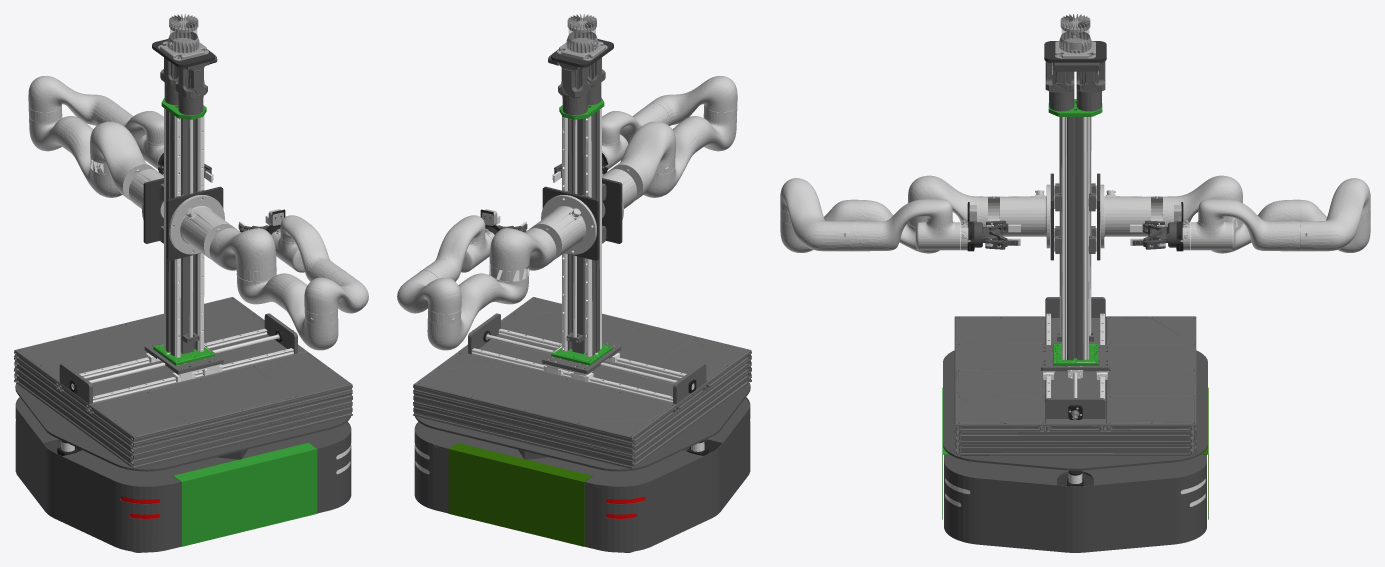
Rendered from mmp_ridgeback_dualxarm.glb.
3 renders of one model, left to right at view 1: azimuth 30°, elevation 25°; view 2: azimuth 150°, elevation 25°; view 3: azimuth 270°, elevation 25°, orthographic.
Parts seen in each view (by area): view 1: node3_primitive0, mmp_ridgeback_primitive0, empty_6.002, mmp_ridgeback_primitive5, empty_5, node26_primitive0, node3_primitive20, xarm850_bracket_primitive0, node18, node26_primitive2, node3_primitive1, Cube; view 2: node3_primitive0, mmp_ridgeback_primitive0, empty_6.002, mmp_ridgeback_primitive2, empty_5, node26_primitive0, xarm850_bracket_primitive0, node3_primitive20, node18, node26_primitive2, node3_primitive1, Cube; view 3: node3_primitive0, mmp_ridgeback_primitive0, empty_6.002, empty_5, node26_primitive0, mmp_ridgeback.001_primitive2, node18, node26_primitive2, xarm850_bracket_primitive1.
Part boxes in pixels (x1,y1,x2,y2): node3_primitive0: (14,57,352,468); mmp_ridgeback_primitive0: (15,383,351,552); empty_6.002: (28,76,368,350); mmp_ridgeback_primitive5: (173,442,317,546); empty_5: (28,103,350,324); node26_primitive0: (146,108,222,382); node3_primitive20: (79,328,293,402); xarm850_bracket_primitive0: (143,178,223,260); node18: (158,14,208,60); node26_primitive2: (153,98,214,365); node3_primitive1: (71,334,278,389); Cube: (152,39,214,67); node3_primitive0: (413,57,751,468); mmp_ridgeback_primitive0: (414,383,750,552); empty_6.002: (397,76,737,350); mmp_ridgeback_primitive2: (448,442,592,546); empty_5: (415,103,737,324); node26_primitive0: (543,108,620,382); xarm850_bracket_primitive0: (542,178,622,260); node3_primitive20: (472,329,686,402); node18: (557,14,607,60); node26_primitive2: (551,98,612,365); node3_primitive1: (487,334,694,389); Cube: (551,39,613,67); node3_primitive0: (954,61,1196,456); mmp_ridgeback_primitive0: (943,350,1207,552); empty_6.002: (780,175,1370,253); empty_5: (780,184,1370,251); node26_primitive0: (1042,117,1108,379); mmp_ridgeback.001_primitive2: (970,220,1180,249); node18: (1055,14,1095,58); node26_primitive2: (1048,99,1102,365); xarm850_bracket_primitive1: (1054,183,1096,253).
Size of the model in its own units: 93.25 by 156 by 176.
